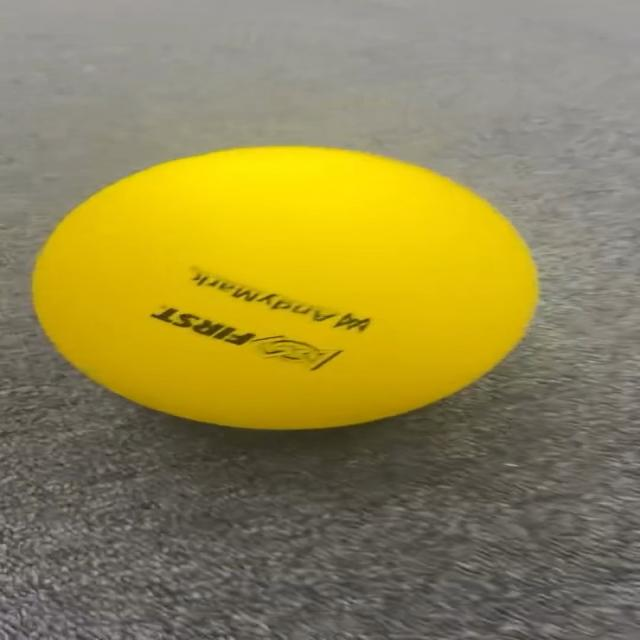Fuels: (32, 148, 539, 425)
